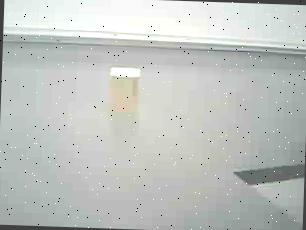Bottle B: (103, 61, 145, 127)
